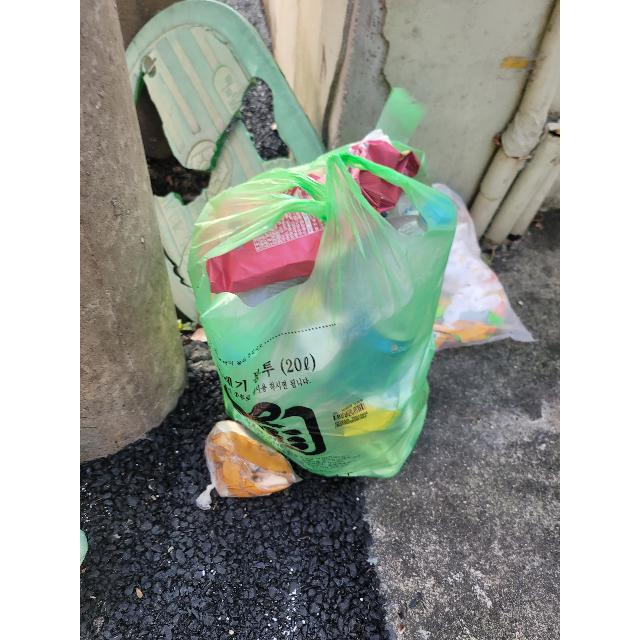general_trashbag: (203, 123, 453, 466)
other_trashbag: (429, 189, 530, 342), (184, 413, 296, 507)
